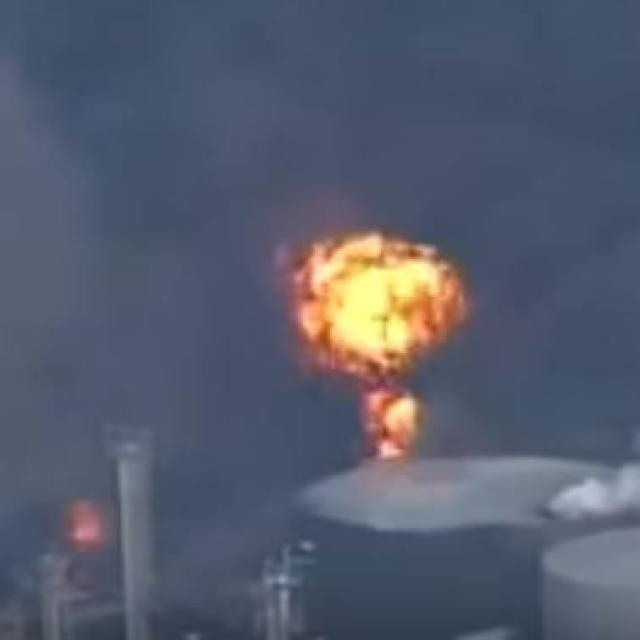Fire: (297, 233, 465, 444), (54, 493, 114, 548)
Smoke: (7, 6, 640, 590)
